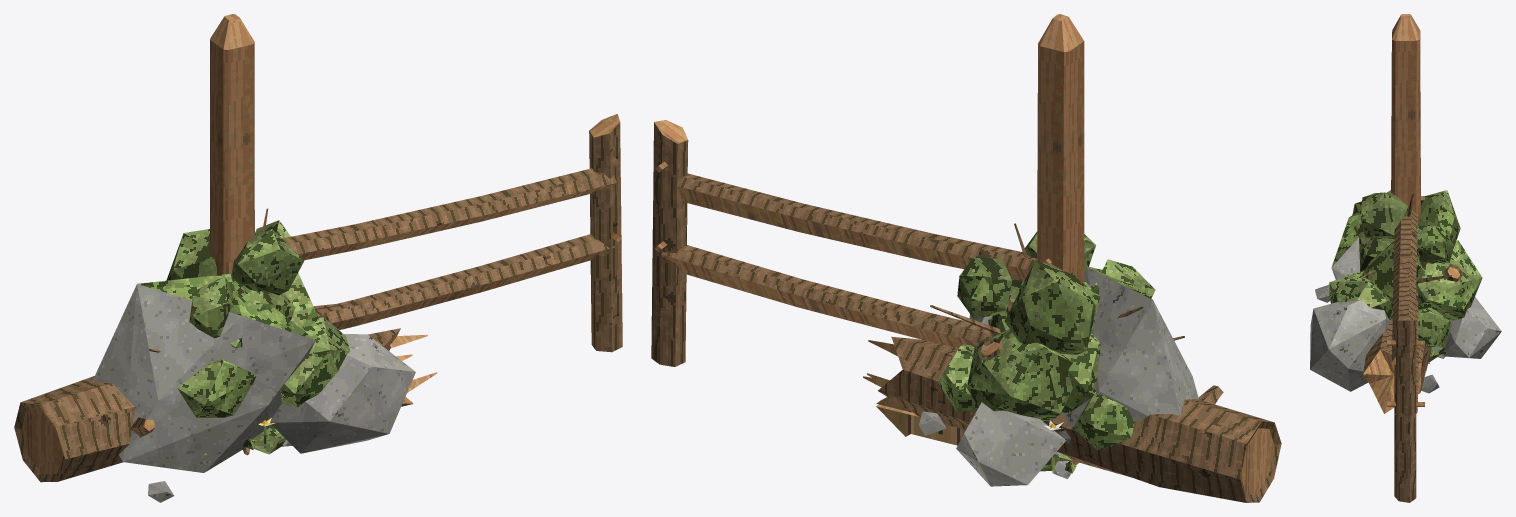
Rendered from props.glb.
The picture shows the model from 3 angles, left to right: view 1: azimuth 30°, elevation 25°; view 2: azimuth 150°, elevation 25°; view 3: azimuth 270°, elevation 25°; orthographic projection. The views are drawn at different scales.
Visible parts, largest first — view 1: rock-group_Boulders, fence-rail_Section, fallen-log_Log, signpost_Post, shrub-b_LeafLumps, shrub-a_LeafLumps, flower-patch_Leaves; view 2: fence-rail_Section, fallen-log_Log, rock-group_Boulders, shrub-b_LeafLumps, signpost_Post, shrub-a_LeafLumps, signpost-arm_Board; view 3: rock-group_Boulders, fence-rail_Section, shrub-a_LeafLumps, shrub-b_LeafLumps, signpost_Post, fallen-log_Log.
Part boxes in pixels (bbox=[...]): rock-group_Boulders: bbox=[92, 274, 415, 502]; fence-rail_Section: bbox=[240, 114, 622, 352]; fallen-log_Log: bbox=[14, 328, 437, 482]; signpost_Post: bbox=[210, 14, 254, 275]; shrub-b_LeafLumps: bbox=[166, 220, 319, 338]; shrub-a_LeafLumps: bbox=[177, 289, 350, 417]; flower-patch_Leaves: bbox=[204, 426, 285, 454]; fence-rail_Section: bbox=[651, 120, 1051, 366]; fallen-log_Log: bbox=[863, 336, 1281, 502]; rock-group_Boulders: bbox=[919, 267, 1198, 486]; shrub-b_LeafLumps: bbox=[957, 231, 1155, 412]; signpost_Post: bbox=[1037, 14, 1084, 465]; shrub-a_LeafLumps: bbox=[937, 266, 1134, 450]; signpost-arm_Board: bbox=[876, 397, 965, 445]; rock-group_Boulders: bbox=[1310, 190, 1501, 393]; fence-rail_Section: bbox=[1387, 196, 1424, 502]; shrub-a_LeafLumps: bbox=[1329, 223, 1482, 347]; shrub-b_LeafLumps: bbox=[1352, 190, 1460, 309]; signpost_Post: bbox=[1391, 14, 1420, 224]; fallen-log_Log: bbox=[1363, 264, 1462, 413].
Size of the model in its own units: 3.12 by 2.22 by 1.11.
12 materials, 8 textured.
